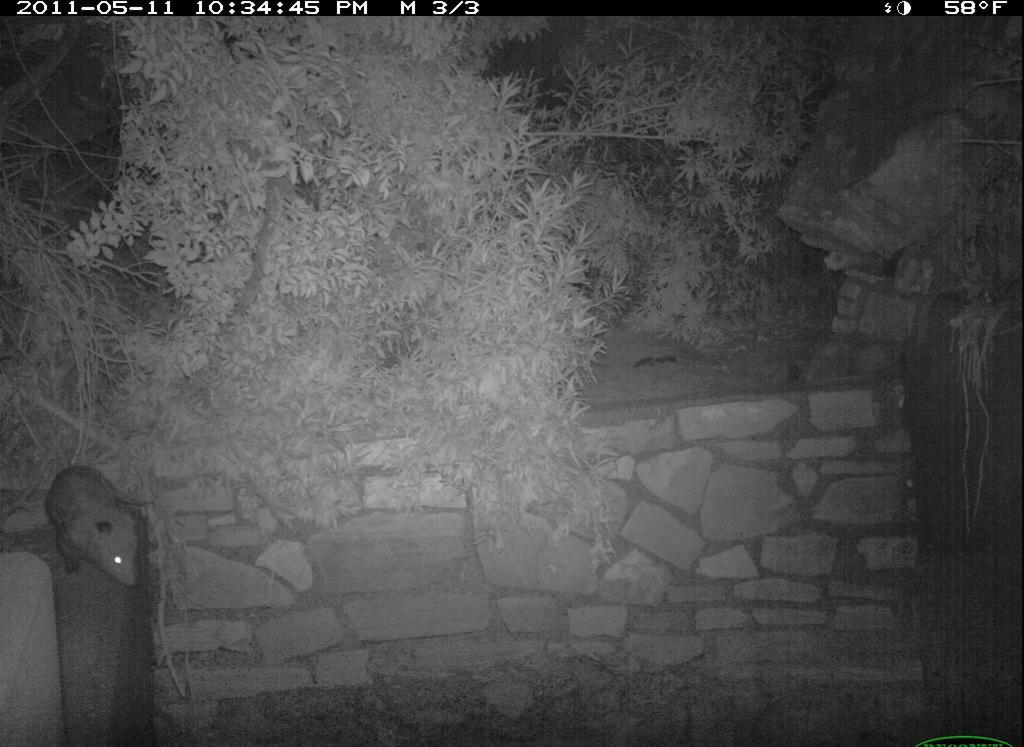opossum: (36, 461, 150, 597)
